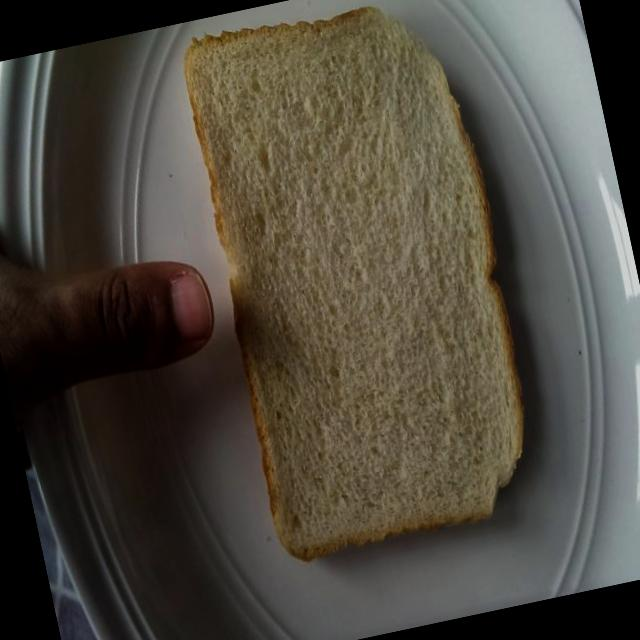Bread: (168, 0, 563, 582)
Finger: (69, 236, 233, 394)
